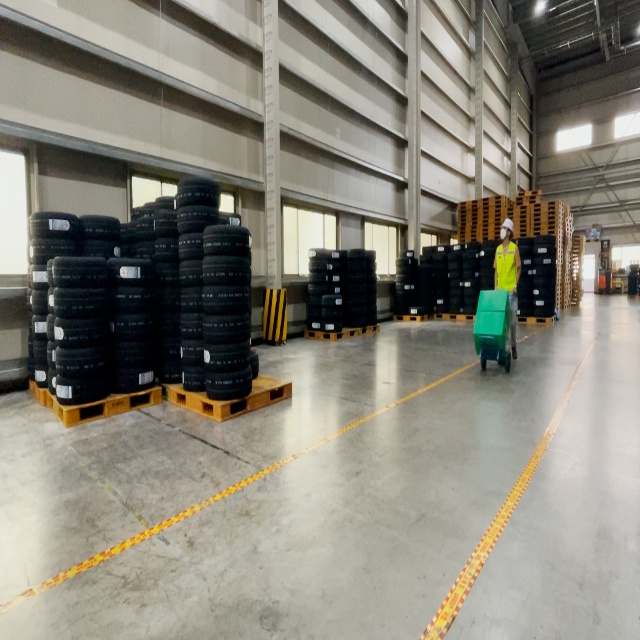Box: (473, 310, 509, 357), (477, 289, 511, 328)
Worker: (493, 217, 522, 359)
